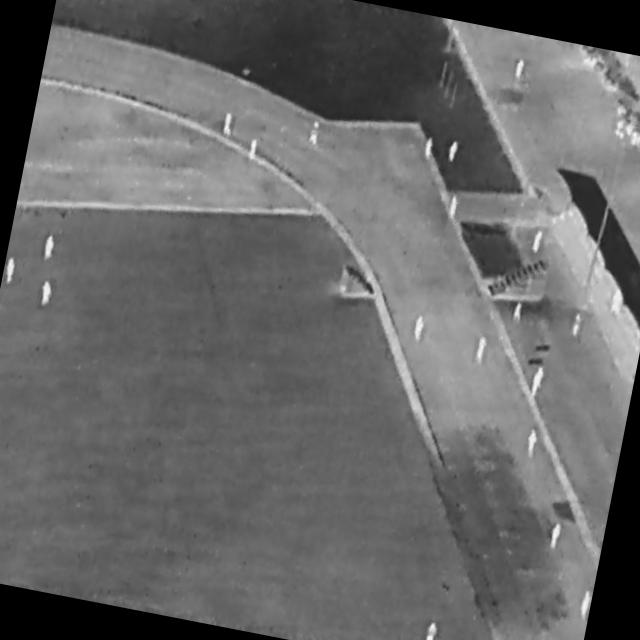person: (609, 287, 627, 319), (530, 368, 546, 400), (580, 591, 594, 623), (526, 429, 540, 460), (475, 337, 489, 366), (40, 280, 55, 307), (413, 316, 427, 343), (5, 258, 18, 285), (550, 524, 563, 551), (309, 121, 322, 147), (448, 196, 461, 222), (223, 112, 236, 137), (44, 236, 56, 262), (515, 59, 527, 83), (424, 138, 436, 160), (533, 231, 544, 254), (425, 622, 439, 640), (448, 142, 460, 163), (573, 313, 583, 338), (249, 140, 259, 162), (513, 303, 524, 323)
